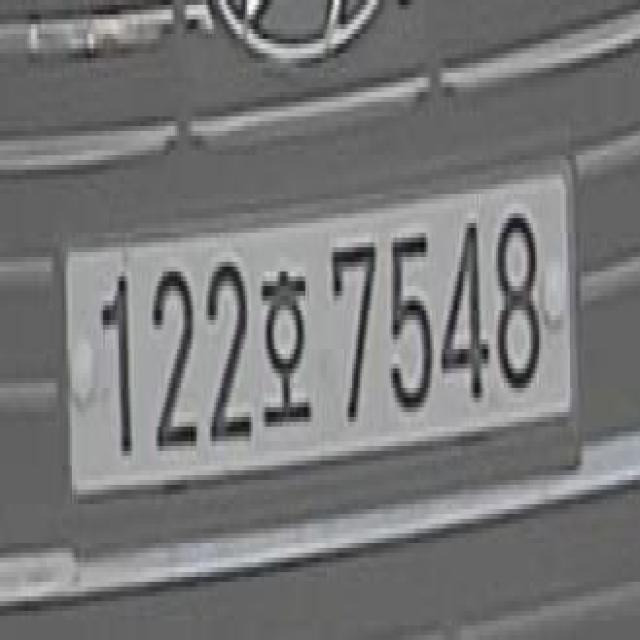illegal_plate: (69, 168, 583, 532)
